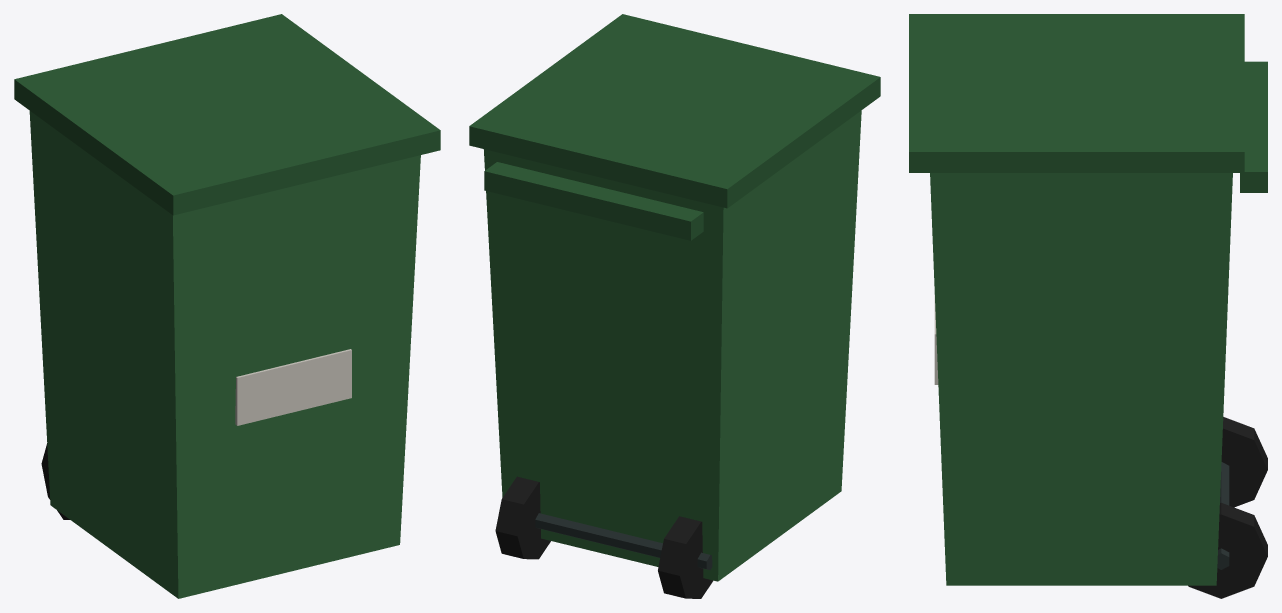
The model's file is thung_rac_xanh.glb.
3 views of the same model, side by side, from view 1: azimuth 30°, elevation 25°; view 2: azimuth 150°, elevation 25°; view 3: azimuth 270°, elevation 25° (orthographic). The views are drawn at different scales.
Parts seen in each view (by area): view 1: thung_rac_xanh; view 2: thung_rac_xanh; view 3: thung_rac_xanh.
Part boxes in pixels (x1=…): thung_rac_xanh: x1=14, y1=14, x2=440, y2=598; thung_rac_xanh: x1=469, y1=14, x2=880, y2=598; thung_rac_xanh: x1=909, y1=14, x2=1267, y2=598.
Bounding box in the file's own units: 0.7 × 1.11 × 0.77.
